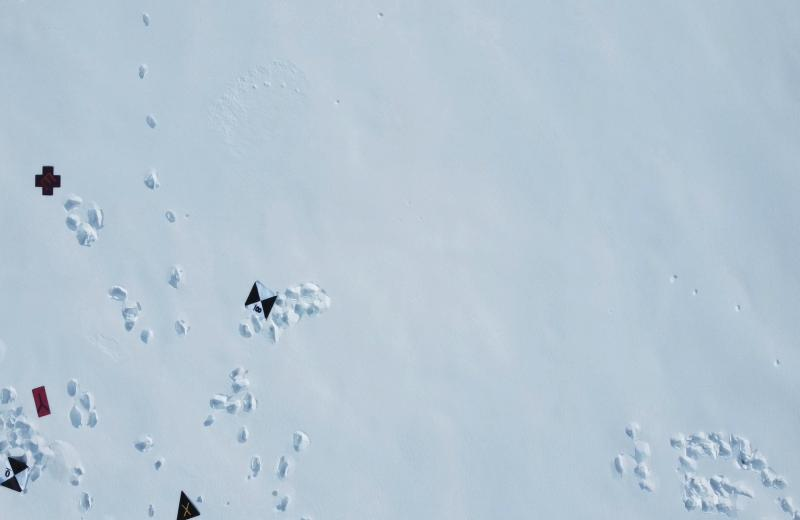Cross: (33, 164, 63, 197)
Rectangle: (29, 384, 52, 421)
Triangle: (172, 490, 201, 520)
